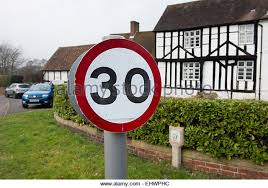Speed_limit_30km: (74, 37, 162, 134)
